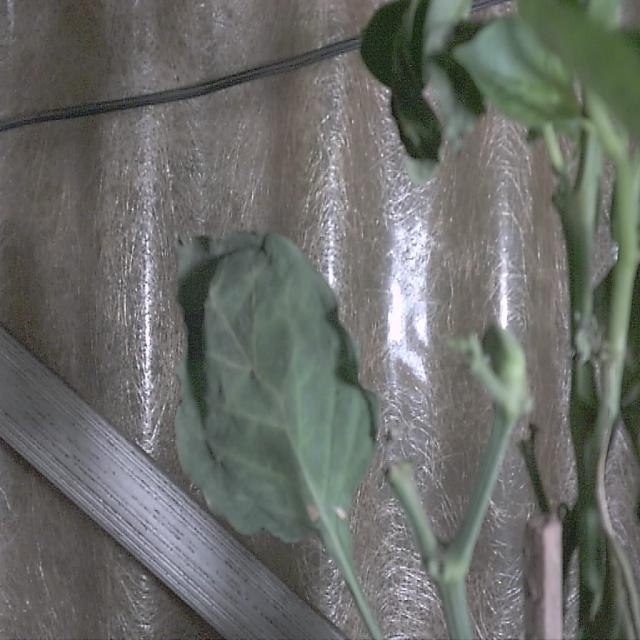Leaf: (166, 227, 379, 544)
